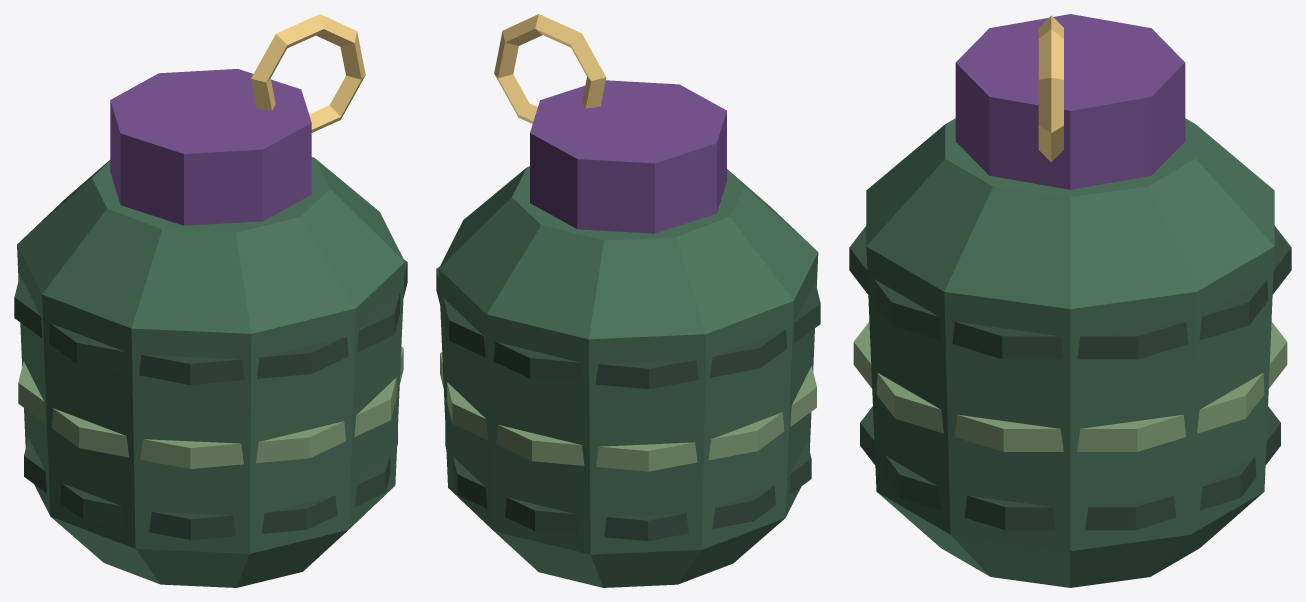
The model's file is frag.glb.
The picture shows the model from 3 angles, left to right: view 1: azimuth 30°, elevation 25°; view 2: azimuth 150°, elevation 25°; view 3: azimuth 270°, elevation 25°; orthographic projection. The views are drawn at different scales.
Visible parts, largest first — view 1: Fragment shell, Fuse cap, Cast seam.002, Cast seam.001, Cast seam, Pull ring; view 2: Fragment shell, Fuse cap, Cast seam.002, Cast seam.001, Cast seam, Pull ring; view 3: Fragment shell, Fuse cap, Cast seam.002, Cast seam.001, Cast seam, Pull ring.
Boxes of the visible parts, left/top/right/bottom form: Fragment shell: left=17, top=157, right=404, bottom=587; Fuse cap: left=110, top=69, right=311, bottom=225; Cast seam.002: left=14, top=259, right=407, bottom=384; Cast seam.001: left=18, top=346, right=403, bottom=468; Cast seam: left=24, top=430, right=397, bottom=540; Pull ring: left=251, top=14, right=365, bottom=132; Fragment shell: left=438, top=166, right=818, bottom=587; Fuse cap: left=530, top=80, right=726, bottom=233; Cast seam.002: left=436, top=266, right=820, bottom=389; Cast seam.001: left=440, top=352, right=816, bottom=471; Cast seam: left=445, top=428, right=811, bottom=541; Pull ring: left=494, top=14, right=606, bottom=123; Fragment shell: left=866, top=118, right=1274, bottom=587; Fuse cap: left=955, top=14, right=1185, bottom=189; Cast seam.002: left=849, top=226, right=1291, bottom=359; Cast seam.001: left=853, top=322, right=1287, bottom=451; Cast seam: left=860, top=406, right=1280, bottom=530; Pull ring: left=1038, top=15, right=1063, bottom=162.
Bounding box in the file's own units: 0.202 × 0.2883 × 0.208.
